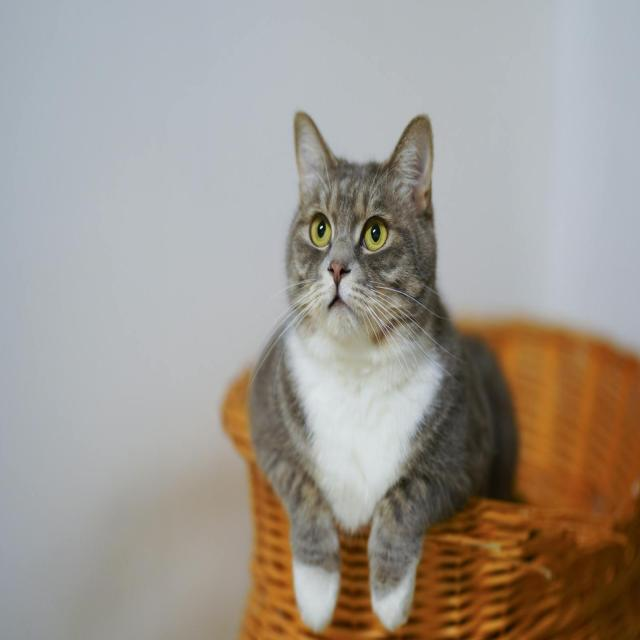Cat: (247, 109, 522, 632)
